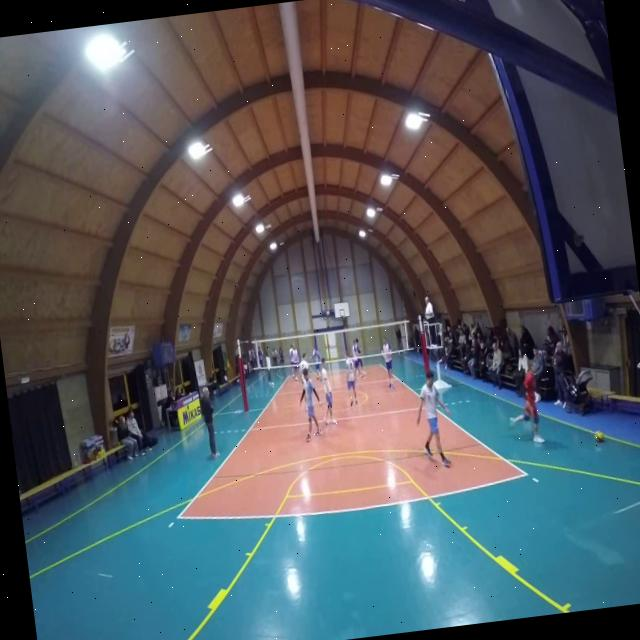Volleyball: (592, 428, 605, 447)
